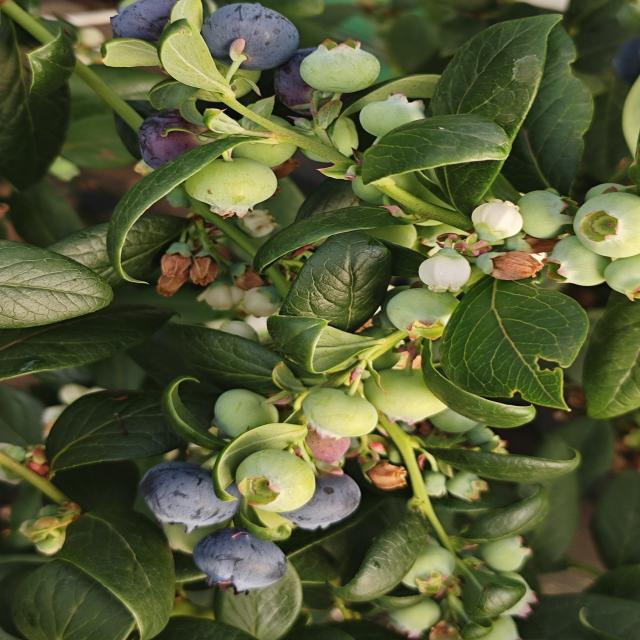ripe: (136, 460, 242, 536), (198, 2, 302, 73), (189, 526, 291, 598), (272, 461, 367, 535), (132, 101, 222, 171), (88, 0, 200, 52)
